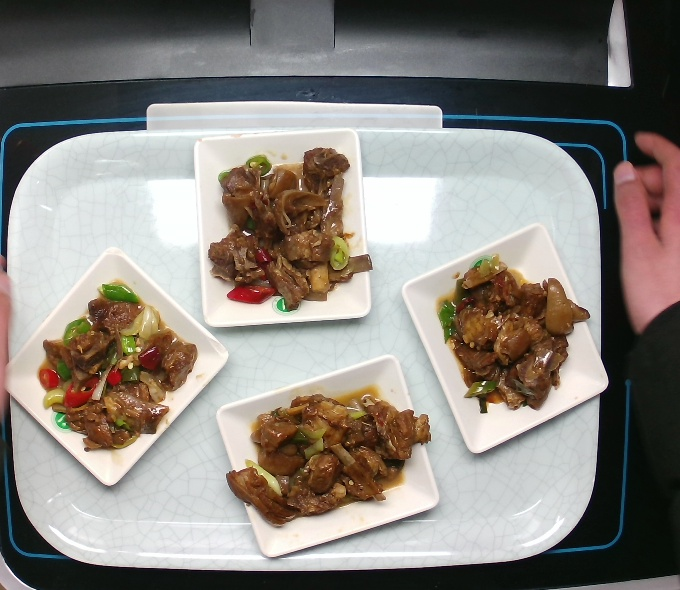wcq-YangRou: (225, 380, 433, 527), (202, 143, 374, 316), (29, 281, 201, 454), (427, 252, 599, 425)
